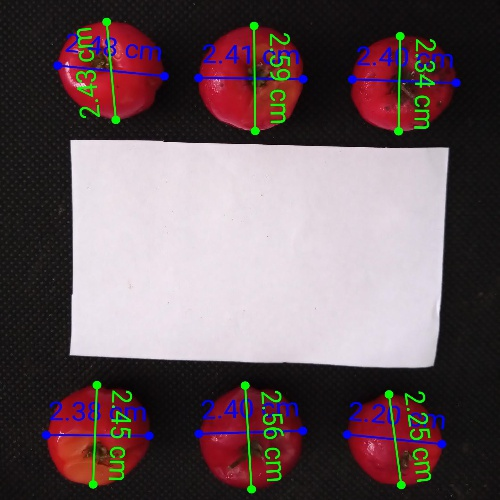acerola: (199, 387, 303, 490), (199, 27, 302, 130), (47, 386, 151, 486), (56, 22, 163, 119), (350, 36, 456, 131), (349, 394, 442, 485)
cartao: (69, 139, 446, 357)
